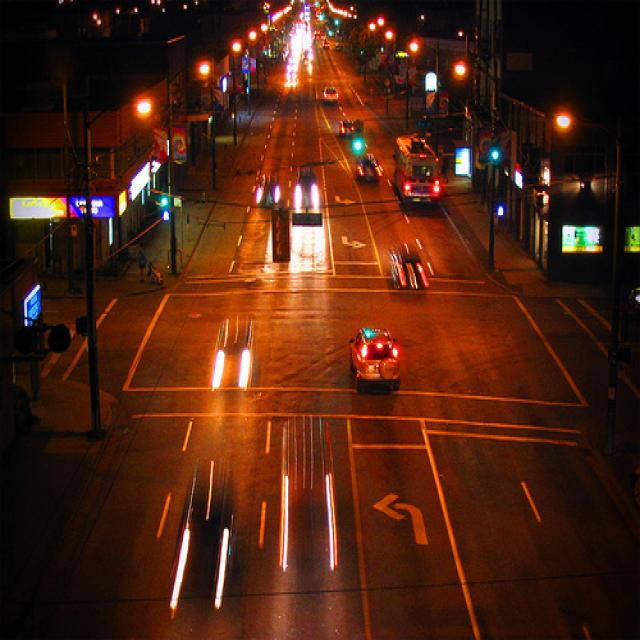Vehicle: (168, 466, 238, 602), (278, 411, 338, 568), (210, 309, 258, 392), (392, 132, 444, 207), (348, 328, 403, 393), (292, 164, 324, 228), (390, 243, 430, 290), (353, 150, 385, 187), (256, 172, 280, 212), (339, 118, 356, 140), (322, 86, 339, 105), (320, 38, 329, 48), (333, 41, 341, 50)
